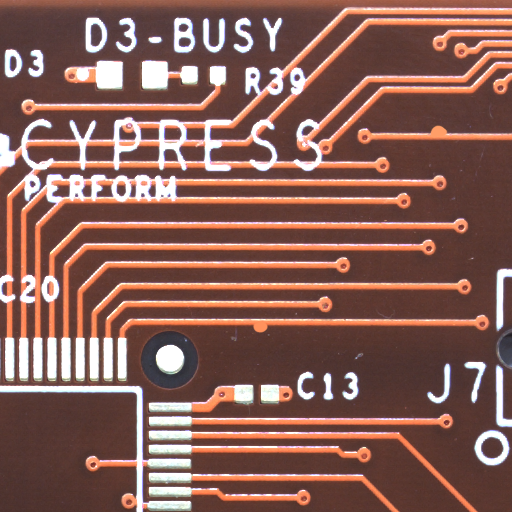Spur: (438, 129, 457, 140), (260, 328, 277, 339)
